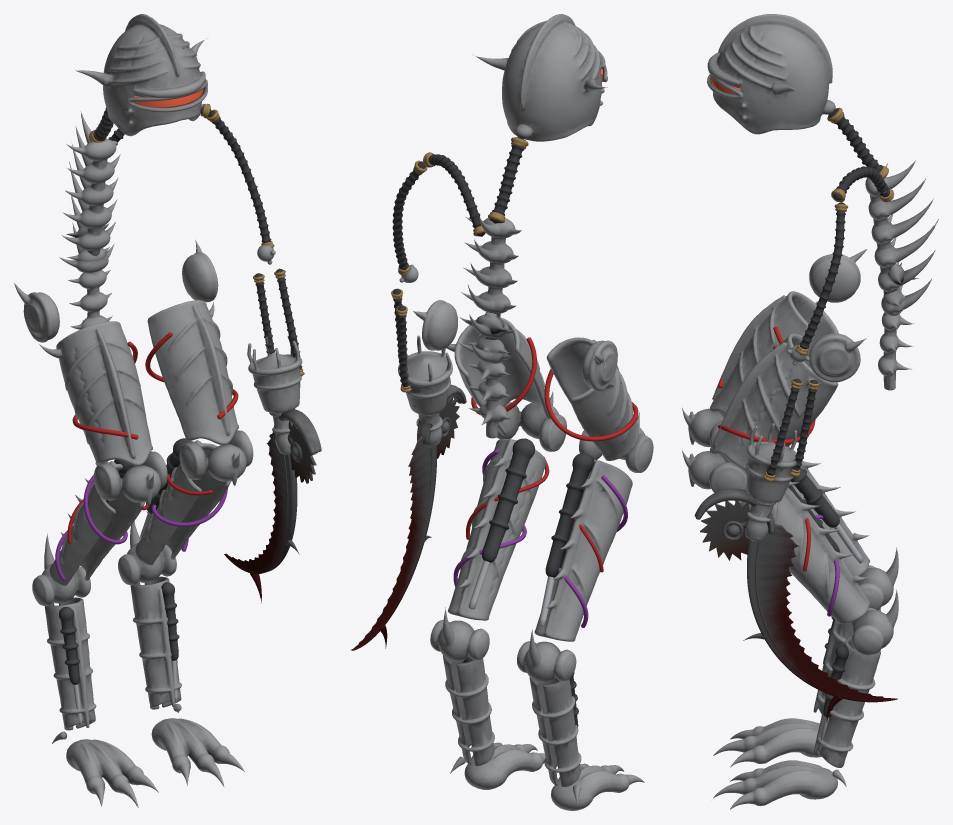
Rendered from flayer-parts.glb.
3 views of the same model, side by side, from view 1: azimuth 30°, elevation 25°; view 2: azimuth 150°, elevation 25°; view 3: azimuth 270°, elevation 25° (orthographic).
Visible parts, largest first — view 1: thigh.r|femur, thigh.l|femur, skull|helmet, spine|dorsal, pelvis|hips, shin.l|tibia, shin.r|tibia, foot.l|cannon, foot.r|cannon, foreArm.l|blade, foreArm.l|collar, foot.r|toes (+15 smaller); view 2: skull|helmet, shin.r|tibia, shin.l|tibia, pelvis|hips, thigh.r|femur, foot.r|cannon, foot.l|cannon, spine|dorsal, foreArm.l|blade, thigh.l|femur, foreArm.l|collar, foot.l|toes (+15 smaller); view 3: skull|helmet, thigh.l|femur, foreArm.l|blade, pelvis|hips, shin.l|tibia, thigh.r|femur, spine|dorsal, foot.l|toes, foot.l|cannon, foreArm.l|collar, foot.r|toes, shin.l|knee (+14 smaller).
Boxes of the visible parts, bbox=[...] form: thigh.r|femur: bbox=[39, 321, 152, 465]; thigh.l|femur: bbox=[147, 300, 238, 444]; skull|helmet: bbox=[75, 14, 206, 136]; spine|dorsal: bbox=[59, 111, 120, 273]; pelvis|hips: bbox=[14, 223, 218, 342]; shin.l|tibia: bbox=[135, 440, 231, 565]; shin.r|tibia: bbox=[49, 461, 145, 586]; foot.l|cannon: bbox=[130, 576, 181, 709]; foot.r|cannon: bbox=[44, 597, 96, 730]; foreArm.l|blade: bbox=[224, 432, 299, 603]; foreArm.l|collar: bbox=[247, 335, 302, 454]; foot.r|toes: bbox=[52, 731, 158, 807]; skull|helmet: bbox=[475, 14, 607, 141]; shin.r|tibia: bbox=[534, 459, 632, 641]; shin.l|tibia: bbox=[448, 438, 546, 620]; pelvis|hips: bbox=[413, 300, 617, 438]; thigh.r|femur: bbox=[546, 337, 638, 460]; foot.r|cannon: bbox=[529, 677, 581, 787]; foot.l|cannon: bbox=[443, 655, 494, 766]; spine|dorsal: bbox=[457, 217, 521, 363]; foreArm.l|blade: bbox=[351, 436, 437, 650]; thigh.l|femur: bbox=[446, 317, 551, 435]; foreArm.l|collar: bbox=[398, 335, 452, 447]; foot.l|toes: bbox=[450, 742, 545, 789]; skull|helmet: bbox=[707, 14, 835, 134]; thigh.l|femur: bbox=[710, 333, 838, 470]; foreArm.l|blade: bbox=[743, 524, 897, 723]; pelvis|hips: bbox=[809, 249, 918, 390]; shin.l|tibia: bbox=[734, 482, 870, 623]; thigh.r|femur: bbox=[710, 291, 838, 413]; spine|dorsal: bbox=[865, 160, 938, 315]; foot.l|toes: bbox=[713, 760, 846, 809]; foot.l|cannon: bbox=[813, 637, 880, 767]; foreArm.l|collar: bbox=[745, 423, 797, 541]; foot.r|toes: bbox=[713, 718, 821, 767]; shin.l|knee: bbox=[682, 450, 747, 492].
Bounding box in the file's own units: 0.6194 × 1.86 × 0.5672.
